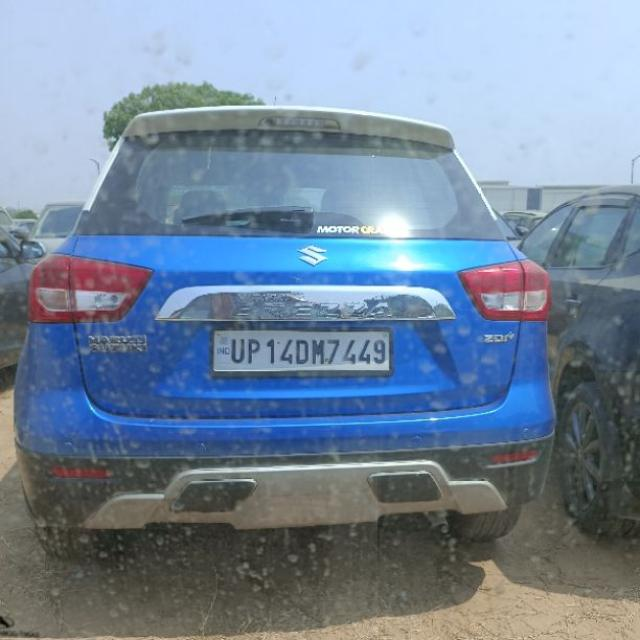license_plate: (208, 326, 393, 376)
